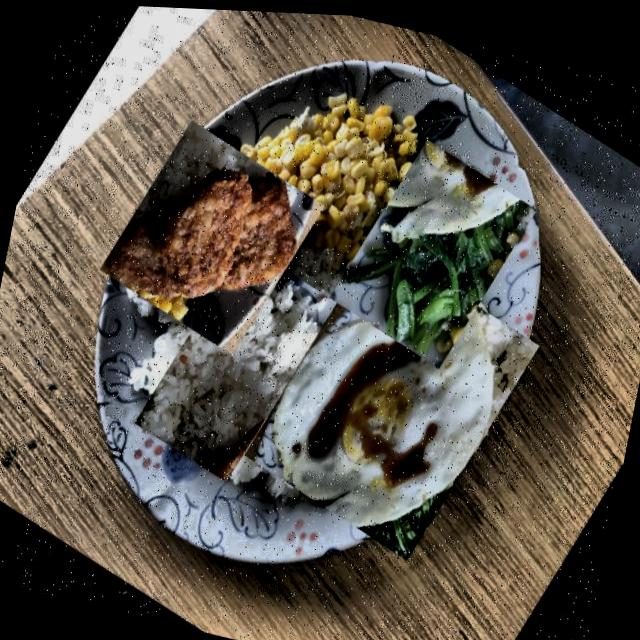Food: (230, 216, 552, 580), (88, 103, 336, 370), (126, 223, 345, 500), (320, 119, 546, 382)
